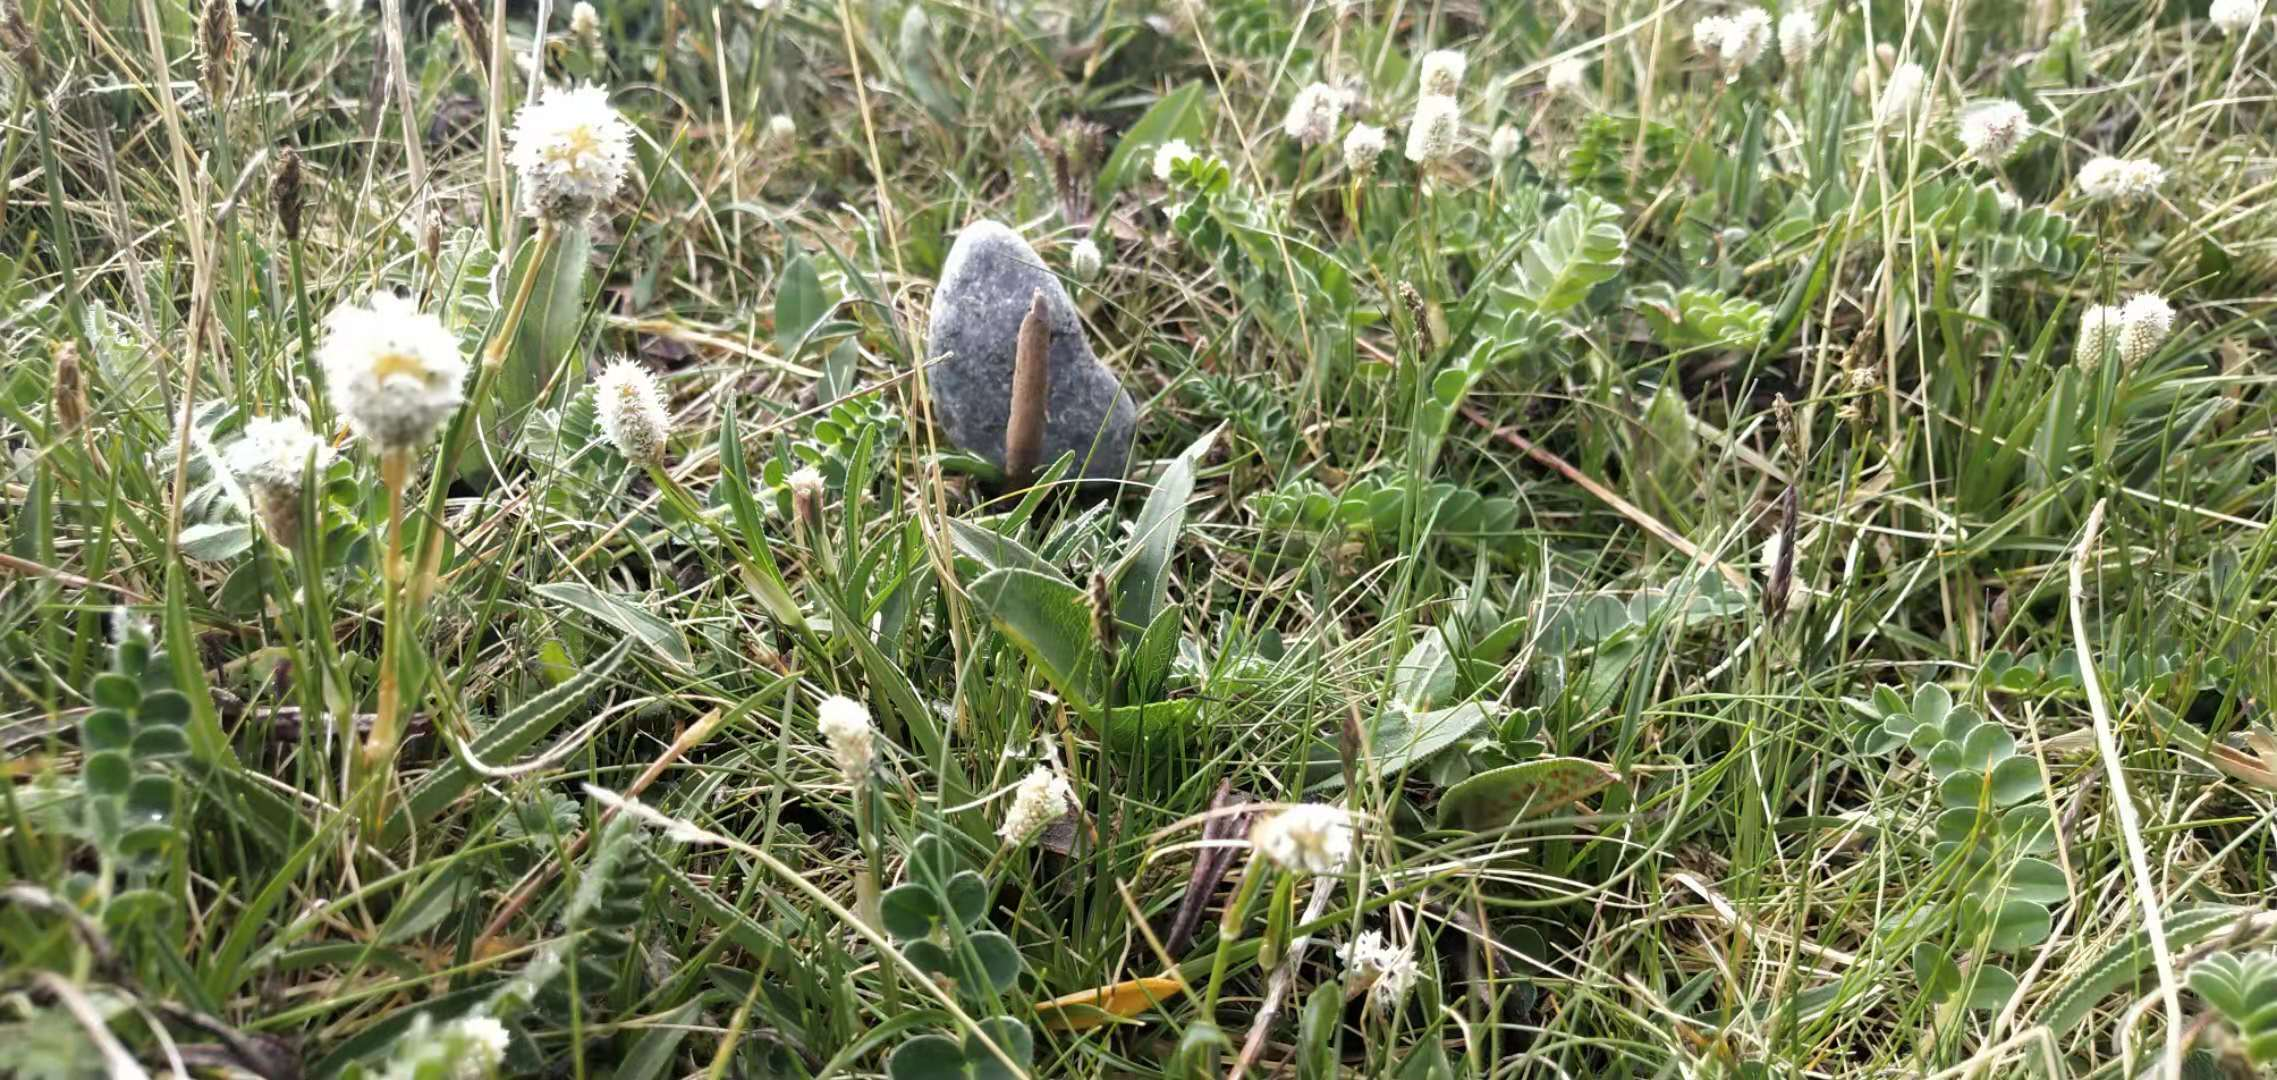Chongcao: (1003, 290, 1047, 476)
